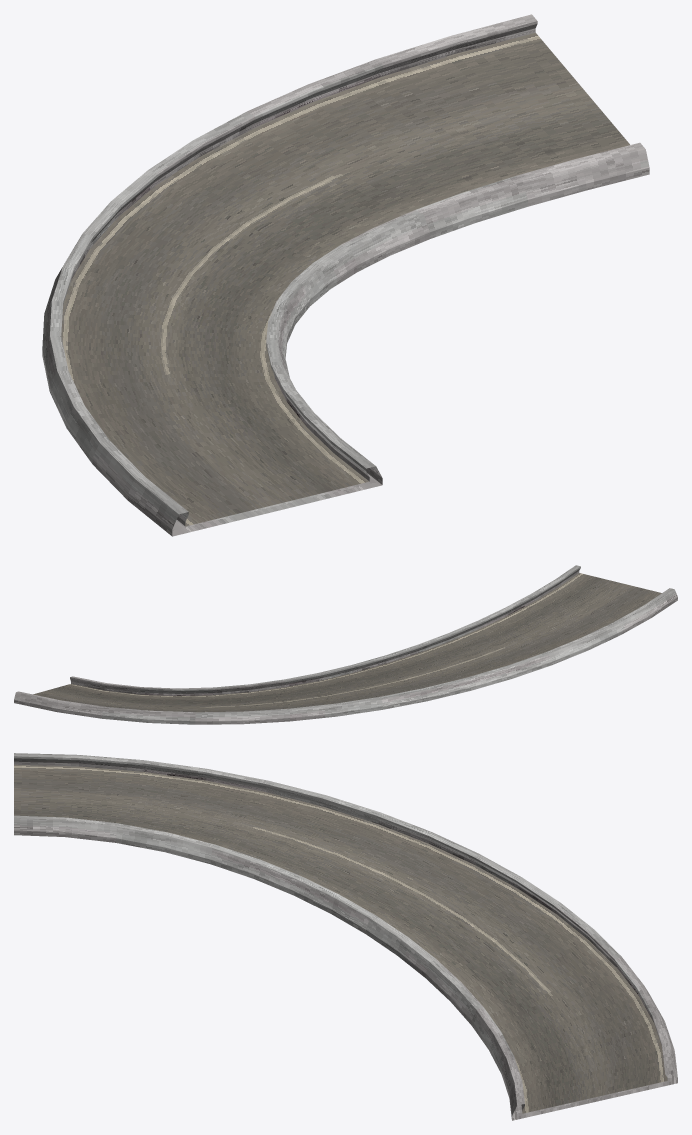
The model's file is road-Turn-Flat-HalfBankedRight-Down2-Right-Size4.glb.
3 renders of one model, top to bottom at view 1: azimuth 30°, elevation 25°; view 2: azimuth 150°, elevation 25°; view 3: azimuth 270°, elevation 25°, orthographic. The views are drawn at different scales.
Parts seen in each view (by area): view 1: road-Turn-Flat-HalfBankedRight-Down2-Right-Size4; view 2: road-Turn-Flat-HalfBankedRight-Down2-Right-Size4; view 3: road-Turn-Flat-HalfBankedRight-Down2-Right-Size4.
Boxes of the visible parts, box(x1,y1,x2,y2) form: road-Turn-Flat-HalfBankedRight-Down2-Right-Size4: box(42, 14, 649, 536); road-Turn-Flat-HalfBankedRight-Down2-Right-Size4: box(14, 565, 677, 724); road-Turn-Flat-HalfBankedRight-Down2-Right-Size4: box(14, 753, 677, 1120).
Size of the model in its own units: 4 by 0.5938 by 4.
Materials: 2 (2 with a texture image).
